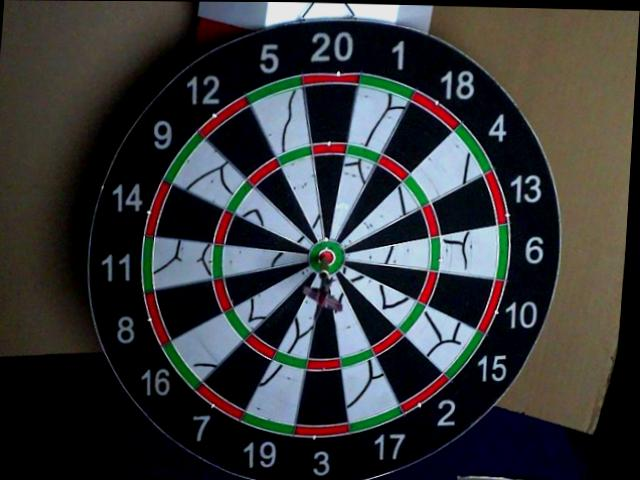bullseye: (314, 248, 338, 270)
